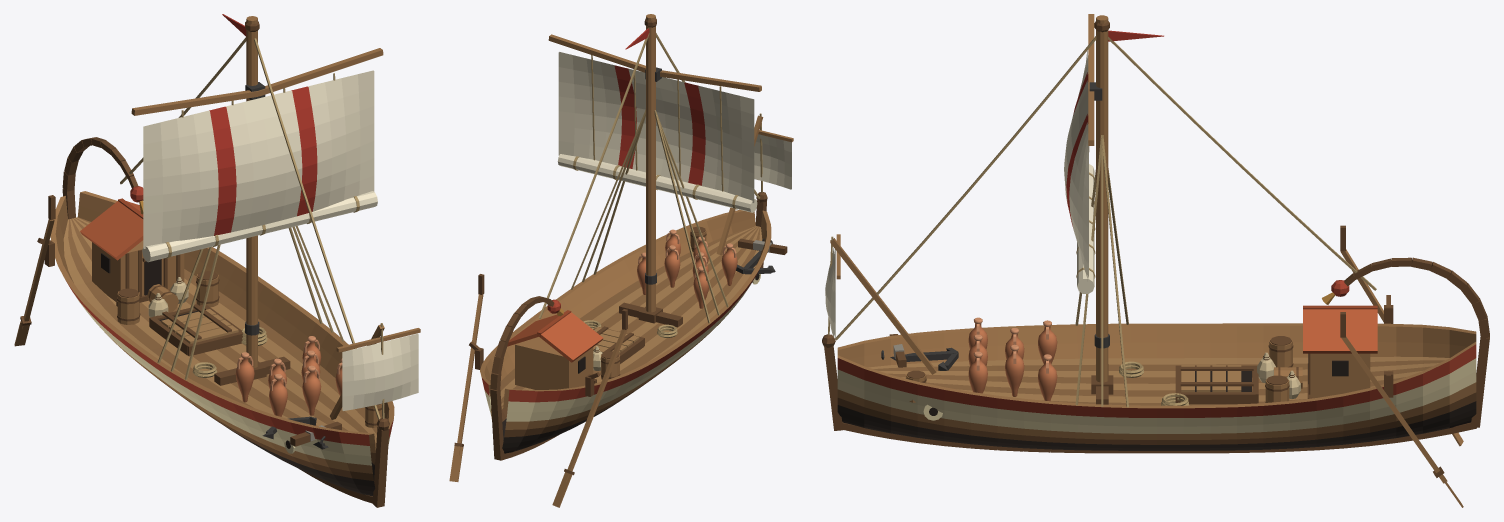
Rendered from Schiff.fbx.
3 views of the same model, side by side, from view 1: azimuth 30°, elevation 25°; view 2: azimuth 150°, elevation 25°; view 3: azimuth 270°, elevation 25° (orthographic). The views are drawn at different scales.
Parts seen in each view (by area): view 1: Schiff; view 2: Schiff; view 3: Schiff.
Part boxes in pixels (<box>): Schiff: <box>14,14,420,507</box>; Schiff: <box>449,14,793,507</box>; Schiff: <box>822,14,1489,507</box>.
Bounding box in the file's own units: 1.64 × 2.76 × 3.66.
